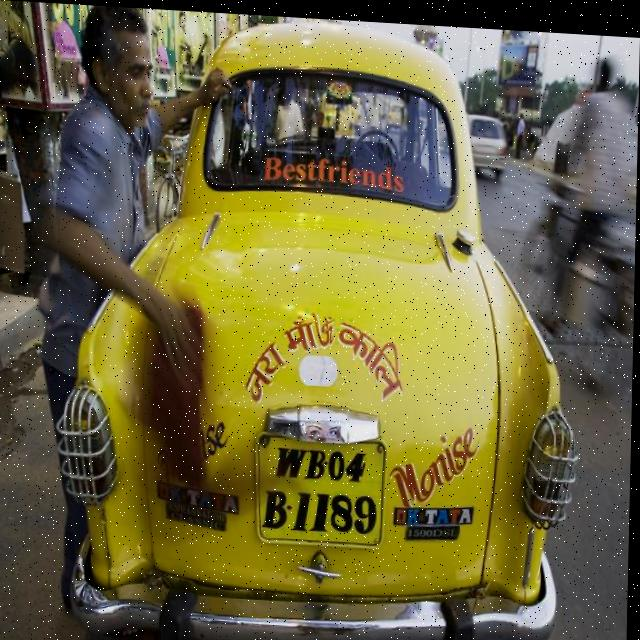plate: (255, 427, 388, 543)
